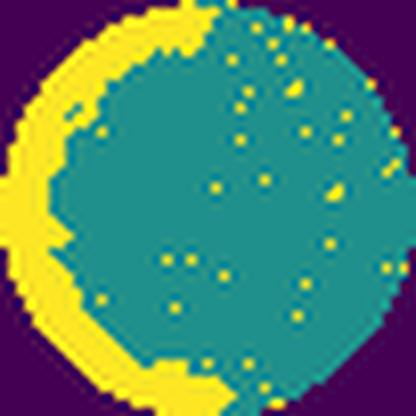Edge-Loc: (0, 0, 238, 416)
